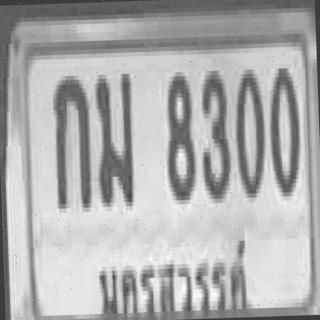A01: (50, 71, 90, 204)
A33: (94, 69, 133, 203)
N00: (267, 64, 300, 192), (232, 65, 264, 194)
N03: (198, 66, 230, 195)
N08: (163, 67, 195, 196)
P31: (91, 232, 252, 320)
